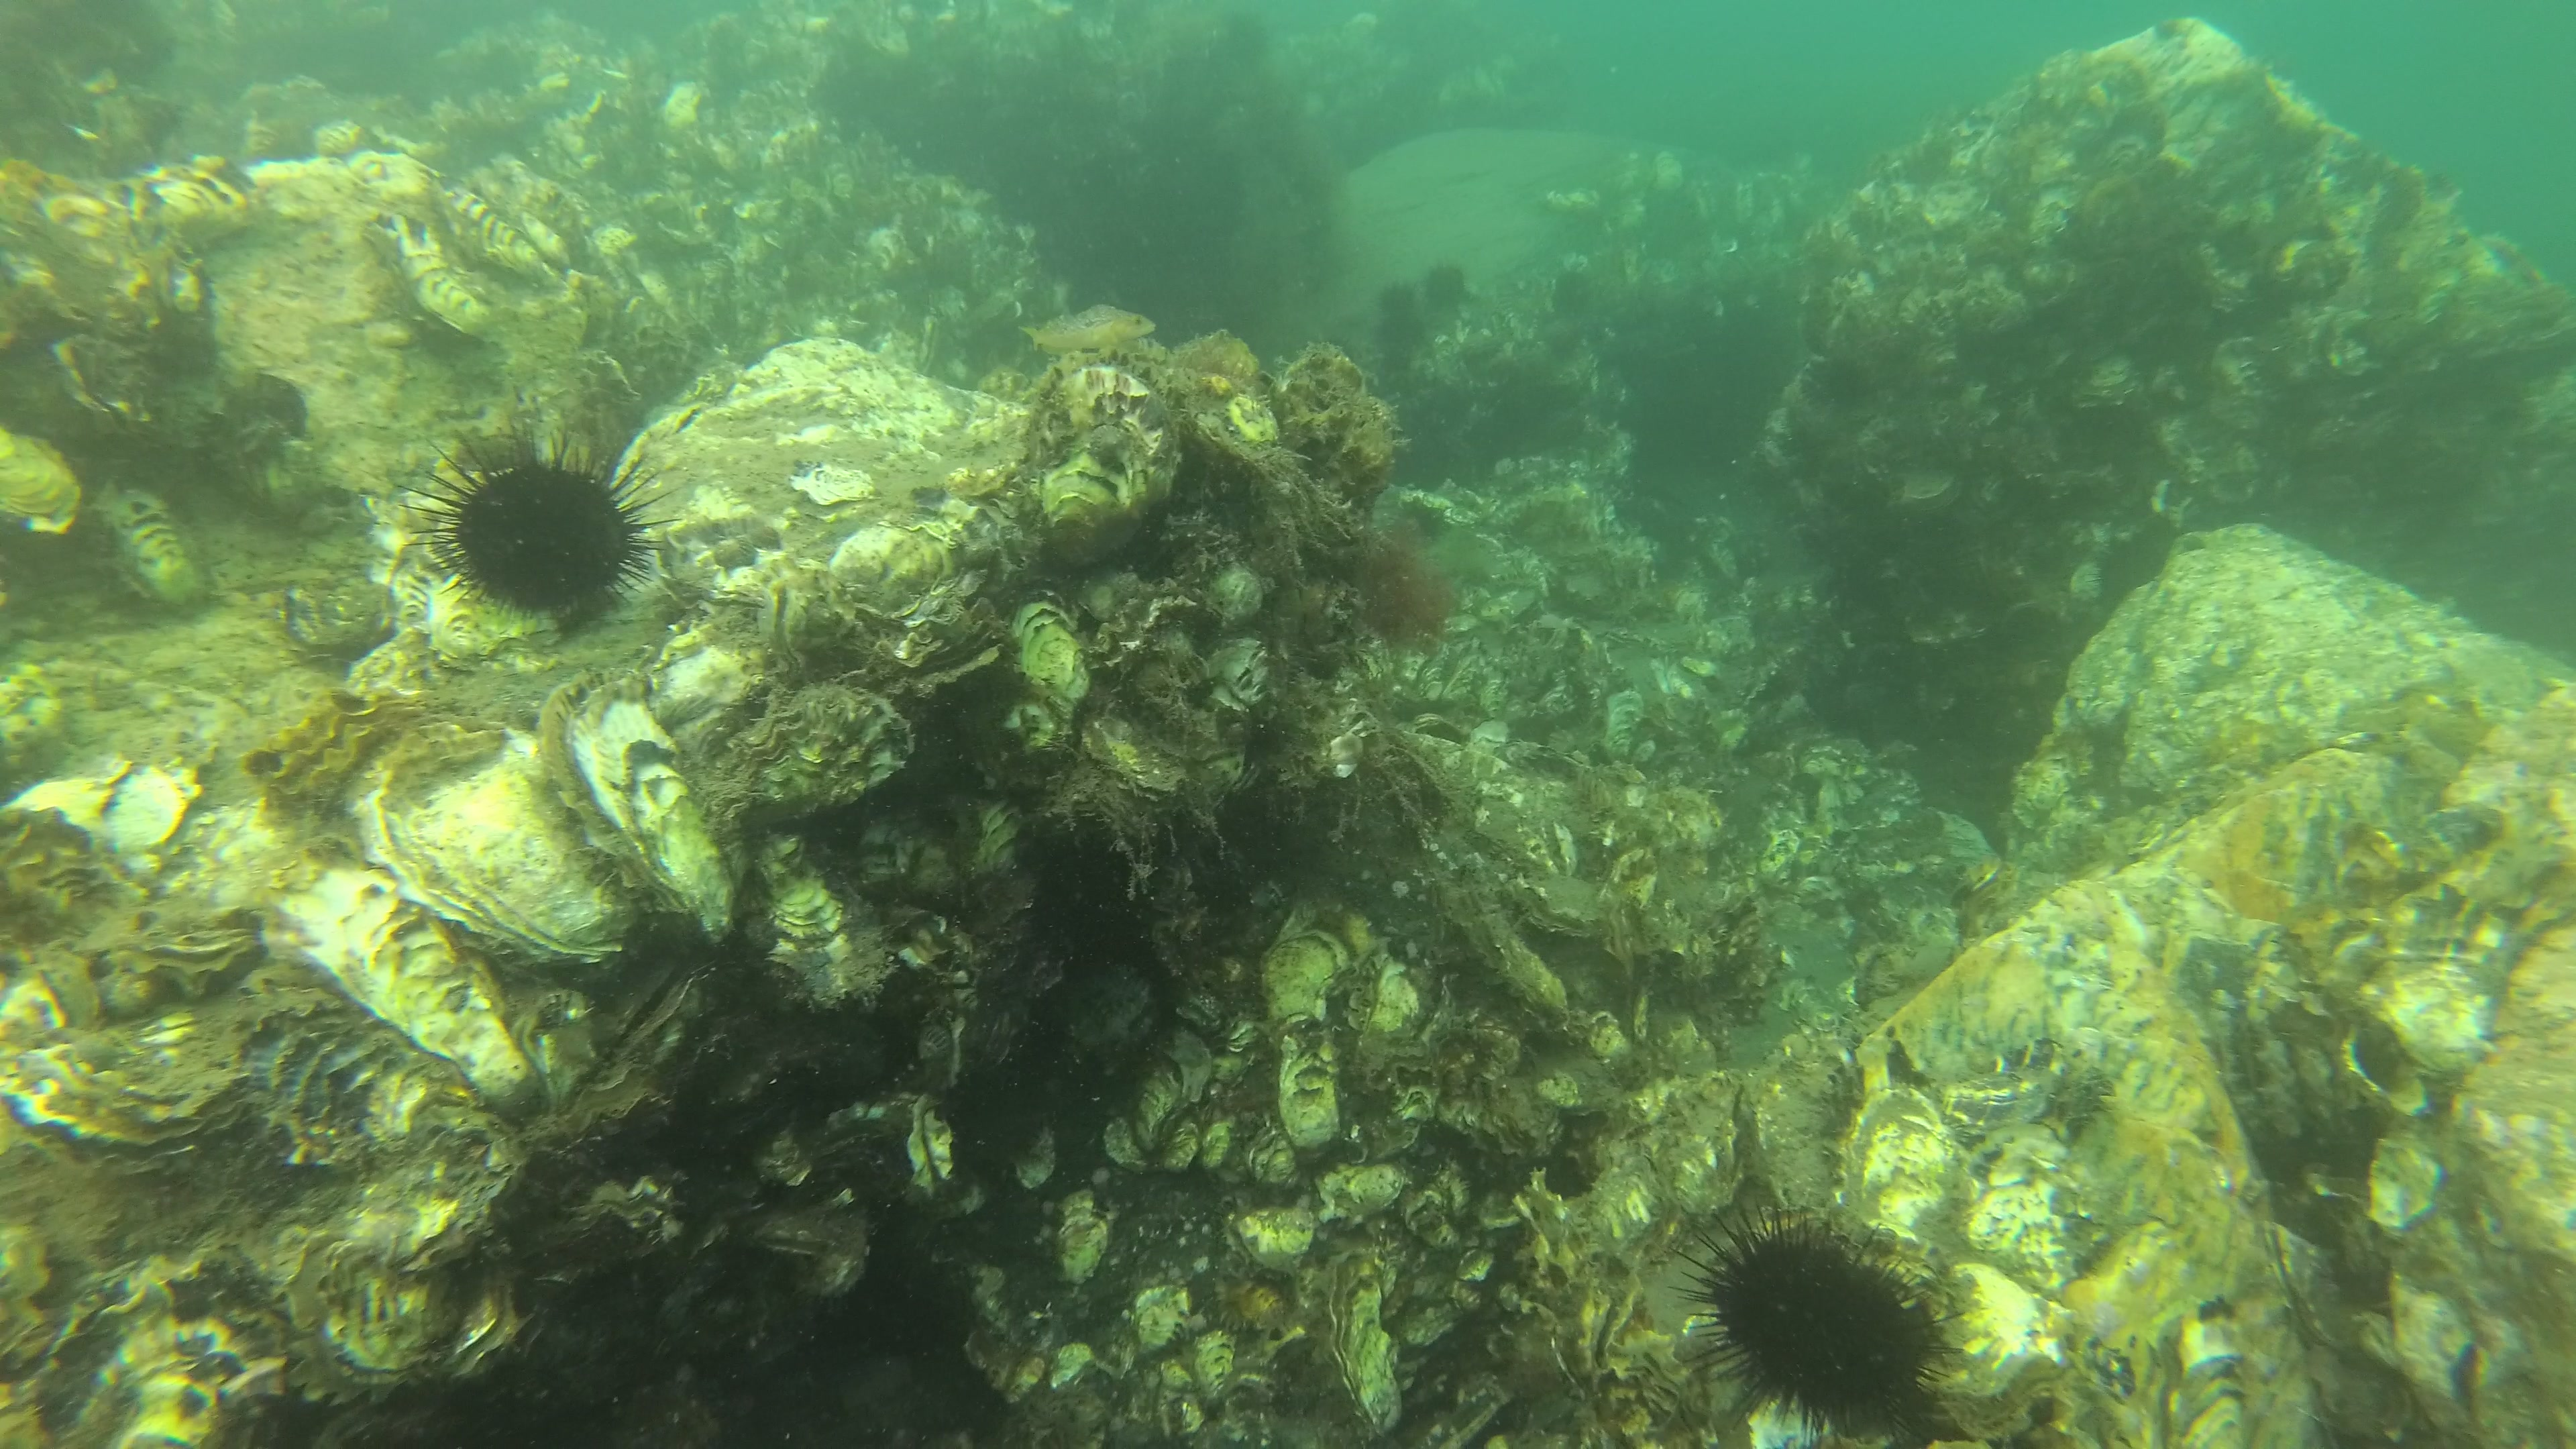echinus: (1691, 1203, 1962, 1438), (410, 421, 672, 625), (1417, 260, 1474, 308), (1548, 265, 1594, 322), (1373, 280, 1426, 327)
